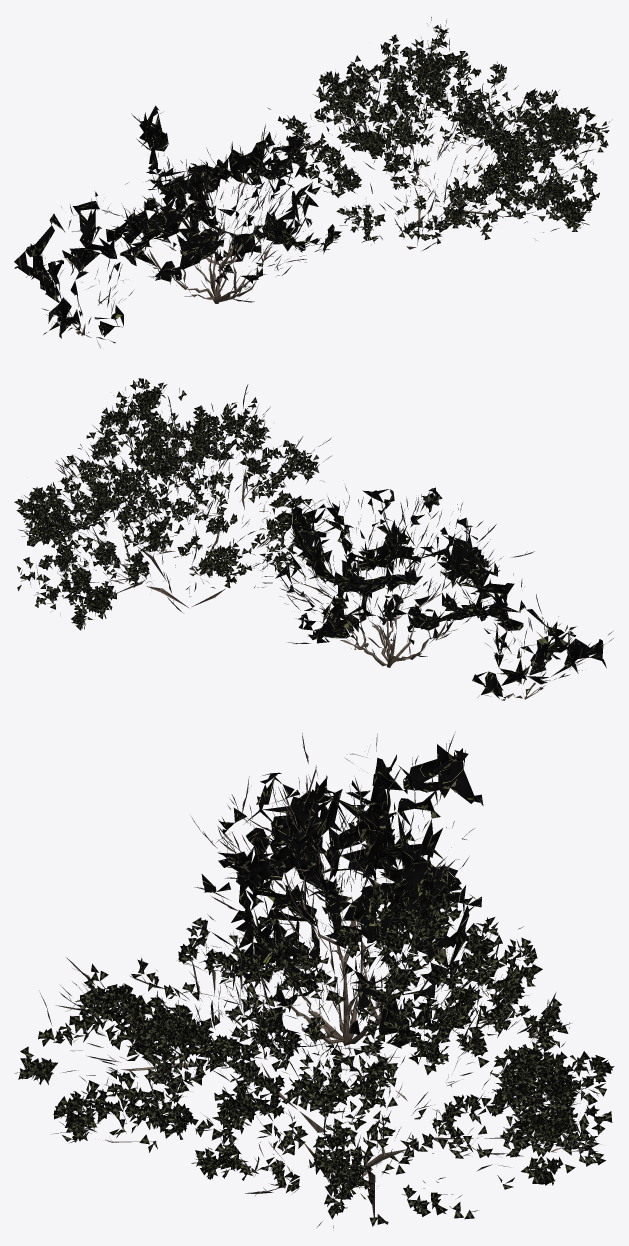
Rendered from searsia_burchellii.glb.
The picture shows the model from 3 angles, top to bottom: view 1: azimuth 30°, elevation 25°; view 2: azimuth 150°, elevation 25°; view 3: azimuth 270°, elevation 25°; orthographic projection. The views are drawn at different scales.
Parts seen in each view (by area): view 1: searsia_burchellii_large_LOD0, searsia_burchellii_medium_LOD0, searsia_burchellii_small_LOD0; view 2: searsia_burchellii_large_LOD0, searsia_burchellii_medium_LOD0, searsia_burchellii_small_LOD0; view 3: searsia_burchellii_large_LOD0, searsia_burchellii_medium_LOD0, searsia_burchellii_small_LOD0.
Boxes of the visible parts, x1,y1,x2,y2 form: searsia_burchellii_large_LOD0: [267, 17, 612, 250]; searsia_burchellii_medium_LOD0: [101, 105, 347, 303]; searsia_burchellii_small_LOD0: [14, 191, 134, 348]; searsia_burchellii_large_LOD0: [14, 378, 332, 630]; searsia_burchellii_medium_LOD0: [275, 485, 534, 667]; searsia_burchellii_small_LOD0: [463, 573, 613, 700]; searsia_burchellii_large_LOD0: [14, 870, 614, 1230]; searsia_burchellii_medium_LOD0: [177, 731, 483, 1068]; searsia_burchellii_small_LOD0: [225, 733, 476, 939].
Bounding box in the file's own units: 8.27 × 3.19 × 4.95.
3 materials, 3 textured.
